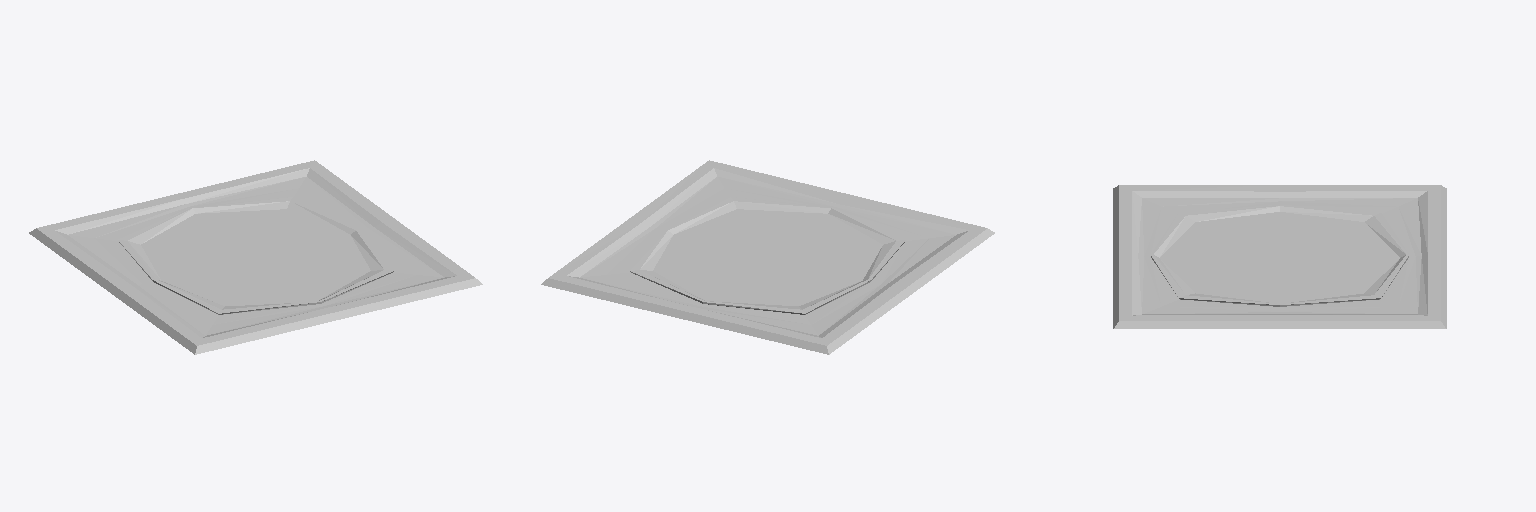
The model's file is PictureFram_SquareCircle01.obj.
3 views of the same model, side by side, from view 1: azimuth 30°, elevation 25°; view 2: azimuth 150°, elevation 25°; view 3: azimuth 270°, elevation 25° (orthographic).
Parts seen in each view (by area): view 1: Mesh_Picture_Frame_SquareCircle01; view 2: Mesh_Picture_Frame_SquareCircle01; view 3: Mesh_Picture_Frame_SquareCircle01.
Boxes of the visible parts, x1,y1,x2,y2 form: Mesh_Picture_Frame_SquareCircle01: [29, 160, 482, 354]; Mesh_Picture_Frame_SquareCircle01: [541, 160, 994, 354]; Mesh_Picture_Frame_SquareCircle01: [1113, 185, 1446, 328].
Size of the model in its own units: 2.43 by 0.0463 by 2.43.